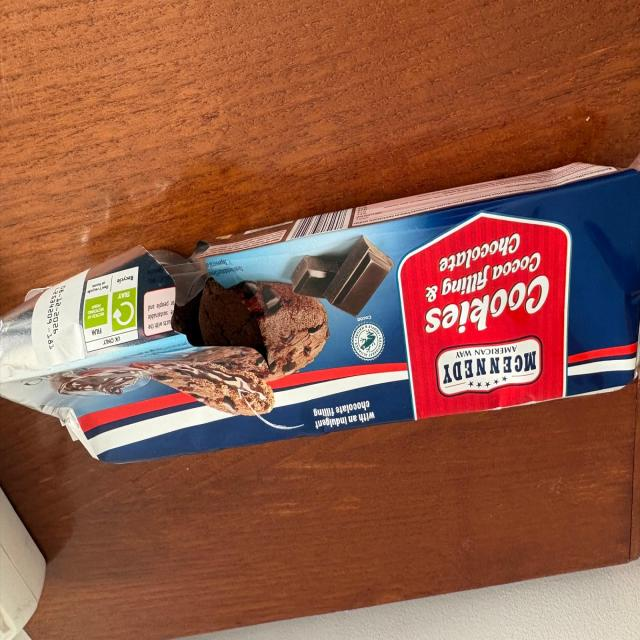damaged_package: (1, 156, 640, 465)
